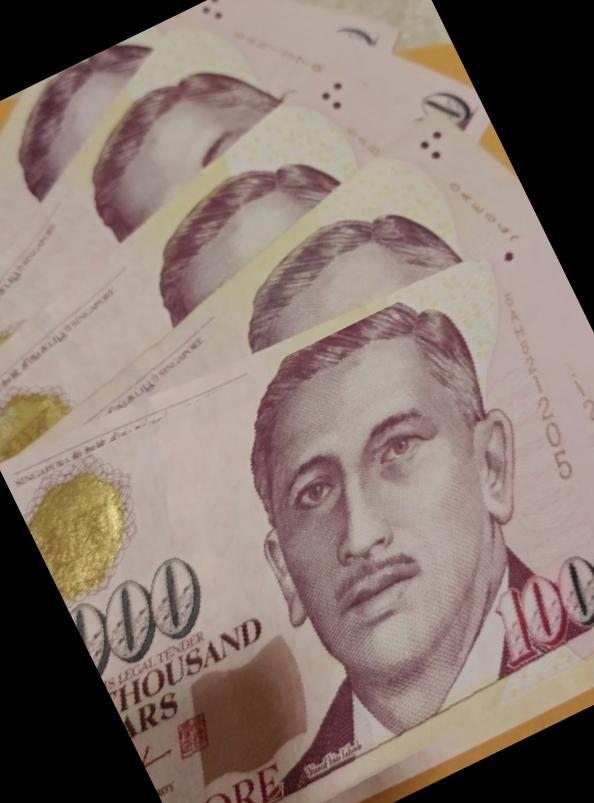1000SingaporeDollar: (10, 230, 594, 803)
